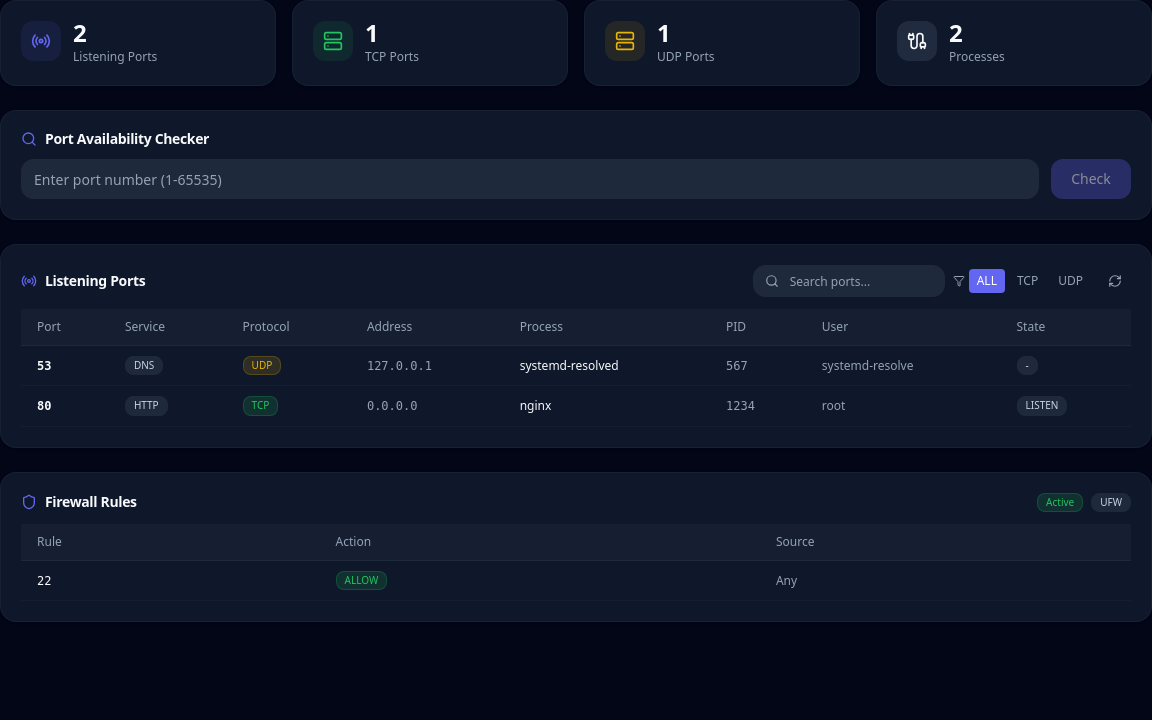
Test: PortsPage › checks port availability
The image size is (1152, 720).
Type "80" into the number field with placeholder "Enter port number (1-65535)" at [530, 179], box [21,159,1039,199]
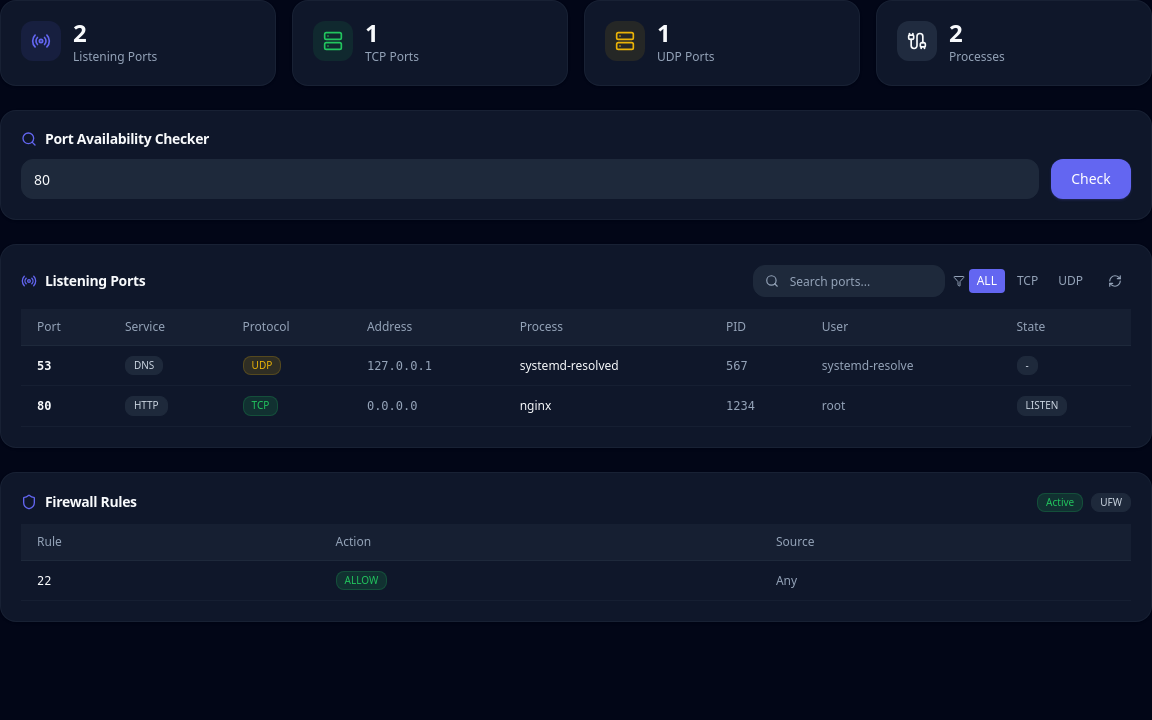
Click the button "Check" at [1091, 179], box [1051,159,1131,199]
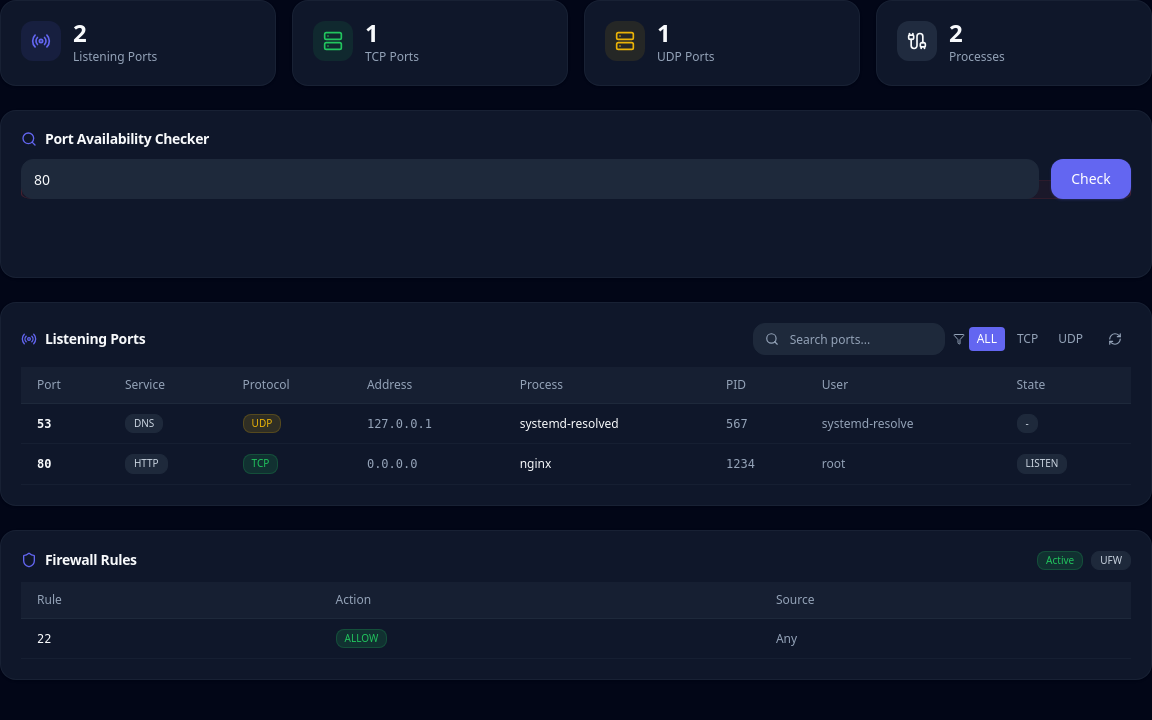
Now the text "Port 80 is in use by nginx" is shown, box [21,180,1131,199]
Replace the text in the number field with placeholder "Enter port number (1-65535)" with "8080" at [530, 179], box [21,159,1039,199]
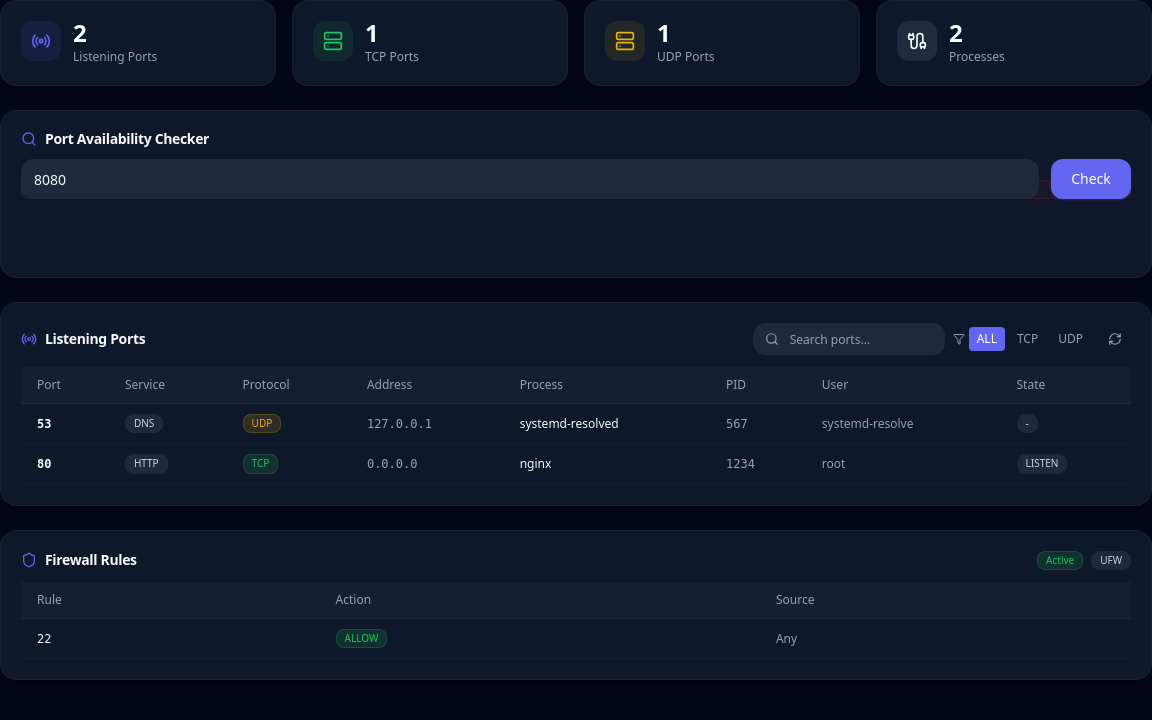
Click the button "Check" at [1091, 179], box [1051,159,1131,199]
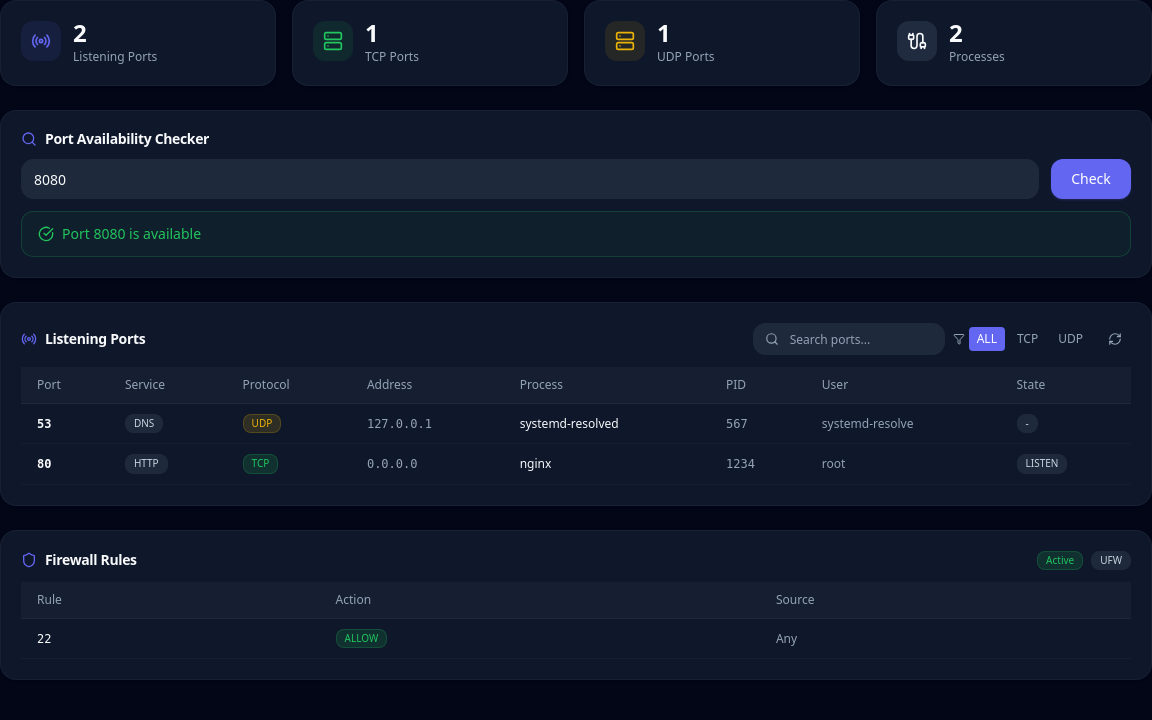
Now the text "Port 8080 is available" is shown, box [21,211,1131,257]
